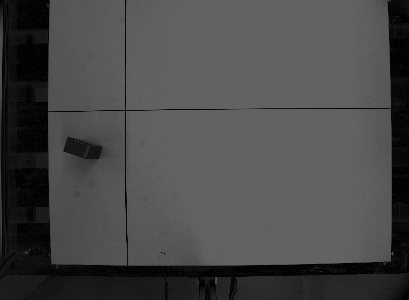b1: (60, 134, 104, 162)
